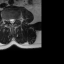CCS_normal: (11, 17, 13, 26)
LFS_stenosis: (15, 17, 17, 22)
LLS_normal: (13, 17, 15, 24)
RFS_stenosis: (6, 17, 9, 23)
RLS_normal: (9, 17, 11, 24)
